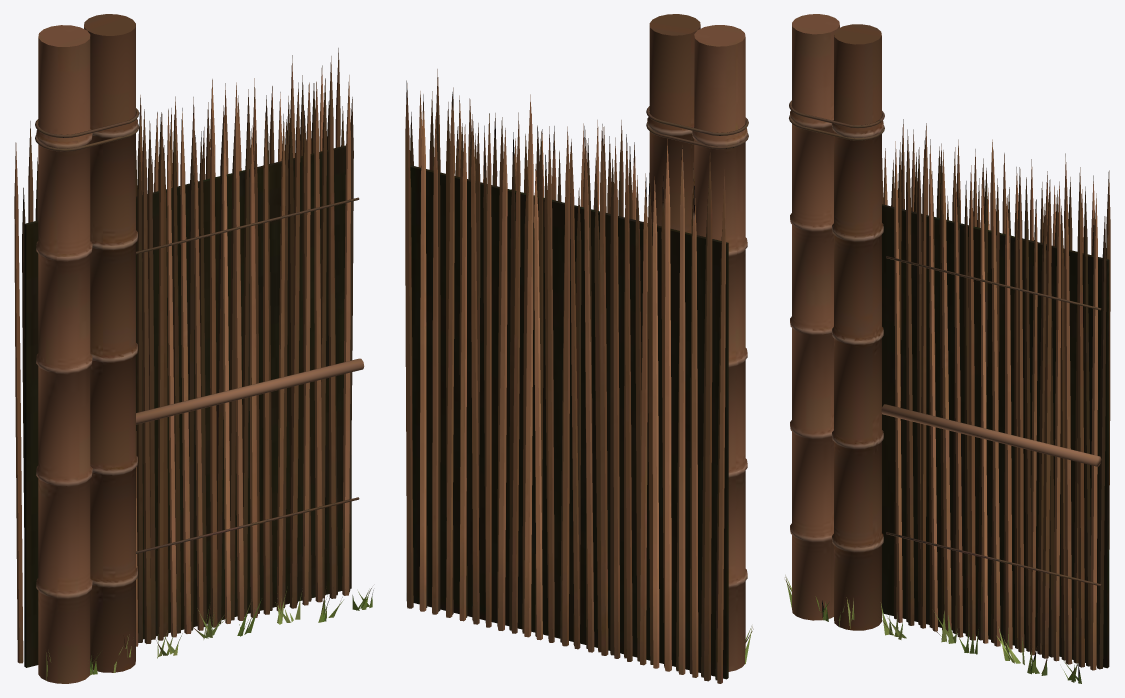
File: fence_reed_end_w_pair_hd.glb
The picture shows the model from 3 angles, left to right: view 1: azimuth 30°, elevation 25°; view 2: azimuth 150°, elevation 25°; view 3: azimuth 330°, elevation 25°; orthographic projection. The views are drawn at different scales.
Visible parts, largest first — view 1: fence_reed_end_w_pair; view 2: fence_reed_end_w_pair; view 3: fence_reed_end_w_pair.
Boxes of the visible parts, x1=… form: fence_reed_end_w_pair: x1=14, y1=14, x2=373, y2=683; fence_reed_end_w_pair: x1=405, y1=14, x2=753, y2=683; fence_reed_end_w_pair: x1=785, y1=14, x2=1110, y2=683.
Bounding box in the file's own units: 1.01 × 1.87 × 0.2065.
1 material, 1 textured.
